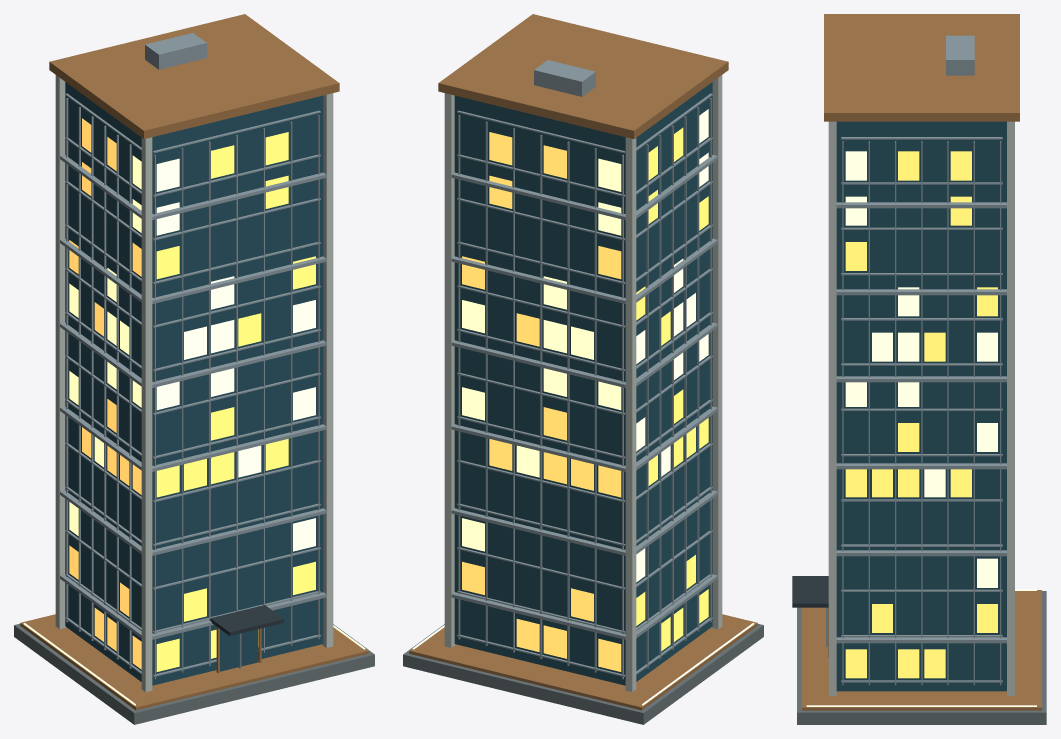
Rendered from data-tower-a.lod1.glb.
3 views of the same model, side by side, from view 1: azimuth 30°, elevation 25°; view 2: azimuth 150°, elevation 25°; view 3: azimuth 270°, elevation 25° (orthographic). The views are drawn at different scales.
Visible parts, largest first — view 1: structure; view 2: structure; view 3: structure.
Part boxes in pixels (box(x1,y1,x2,y2)): structure: box(14, 14, 374, 724); structure: box(403, 14, 763, 724); structure: box(792, 14, 1046, 724).
Size of the model in its own units: 15 by 35.4 by 13.25.
